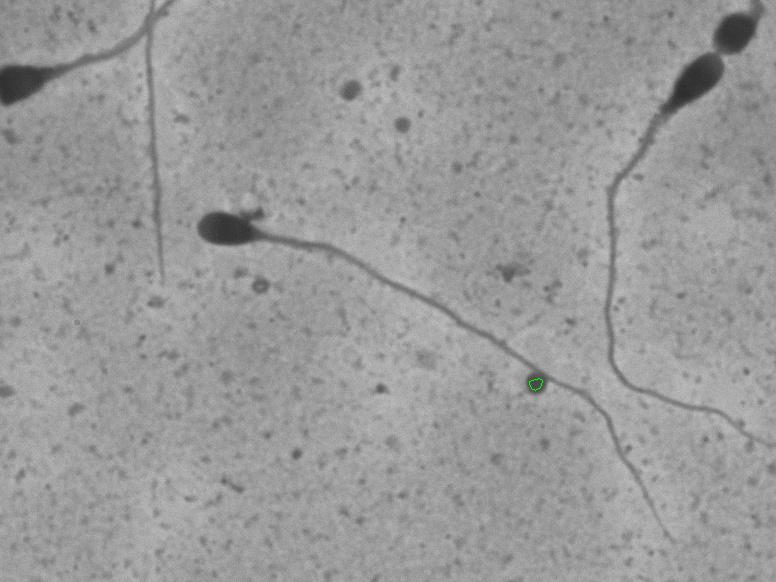Abnormal: (575, 41, 761, 449)
Normal: (174, 186, 703, 559)
